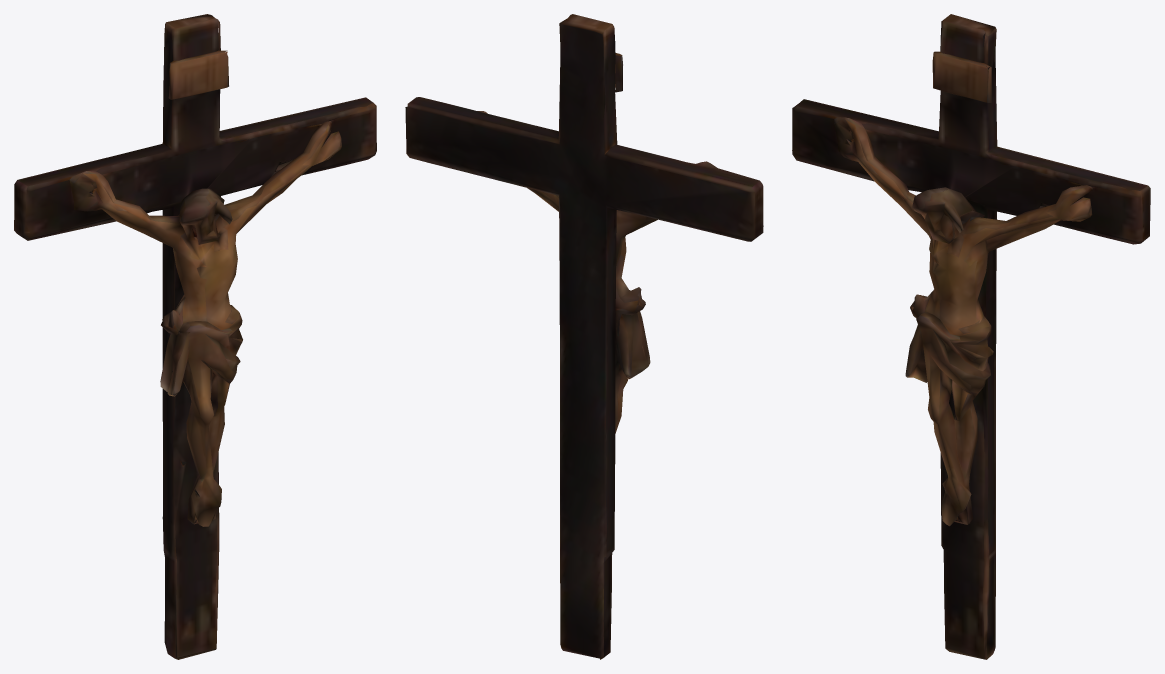
File: crucifijo.movil.glb
3 renders of one model, left to right at view 1: azimuth 30°, elevation 25°; view 2: azimuth 150°, elevation 25°; view 3: azimuth 330°, elevation 25°, orthographic.
Visible parts, largest first — view 1: geometry_0; view 2: geometry_0; view 3: geometry_0.
Boxes of the visible parts, x1,y1,x2,y2 form: geometry_0: [14, 14, 376, 659]; geometry_0: [405, 14, 763, 659]; geometry_0: [792, 14, 1150, 659].
Bounding box in the file's own units: 1.4 × 2.4 × 0.2492.
1 material, 1 textured.
